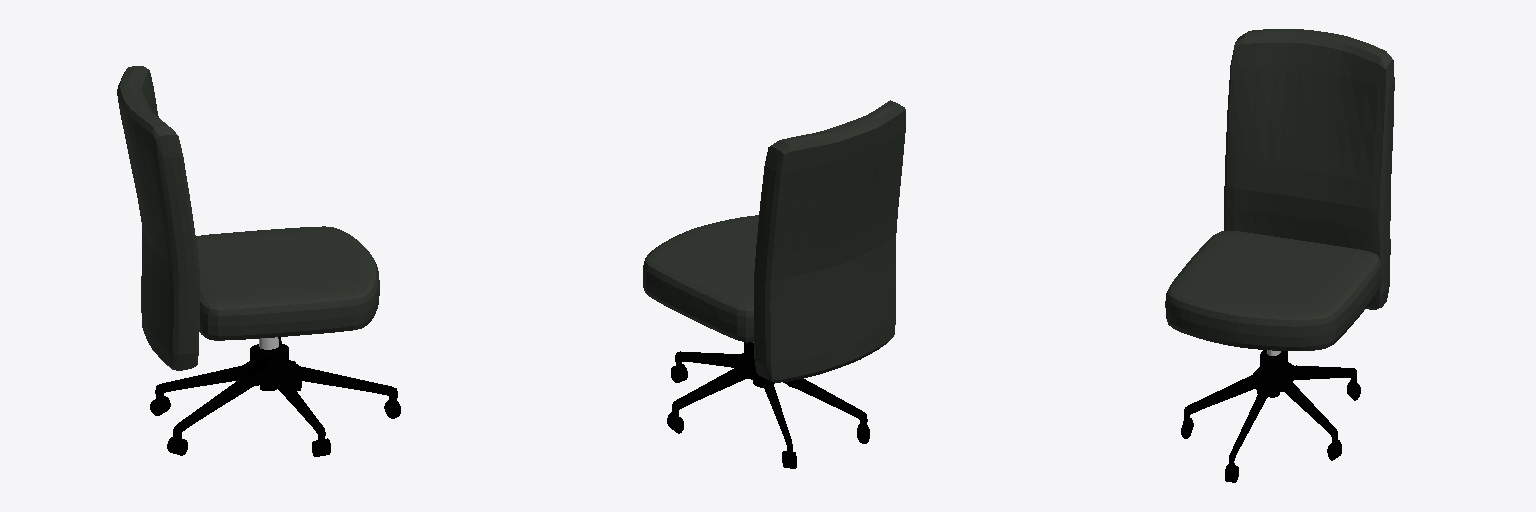
The model's file is Chair.obj.
3 renders of one model, left to right at view 1: azimuth 30°, elevation 25°; view 2: azimuth 150°, elevation 25°; view 3: azimuth 270°, elevation 25°, orthographic.
Visible parts, largest first — view 1: Chair1_Chair_Cube.002, Chair3_Cube.069_Cube.000, Chair2_Cylinder.002_Cylinder.000; view 2: Chair3_Cube.069_Cube.000, Chair1_Chair_Cube.002, Chair2_Cylinder.002_Cylinder.000; view 3: Chair3_Cube.069_Cube.000, Chair1_Chair_Cube.002, Chair2_Cylinder.002_Cylinder.000.
Part boxes in pixels (x1,y1,x2,y2): Chair1_Chair_Cube.002: (196, 226, 379, 340); Chair3_Cube.069_Cube.000: (117, 66, 199, 370); Chair2_Cylinder.002_Cylinder.000: (150, 337, 400, 456); Chair3_Cube.069_Cube.000: (754, 100, 905, 382); Chair1_Chair_Cube.002: (643, 215, 758, 342); Chair2_Cylinder.002_Cylinder.000: (667, 342, 869, 468); Chair3_Cube.069_Cube.000: (1224, 29, 1394, 309); Chair1_Chair_Cube.002: (1165, 231, 1381, 350); Chair2_Cylinder.002_Cylinder.000: (1181, 350, 1360, 482).
Bounding box in the file's own units: 77.73 × 105 × 64.05.